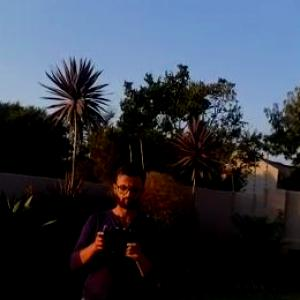follow: (64, 150, 168, 299)
